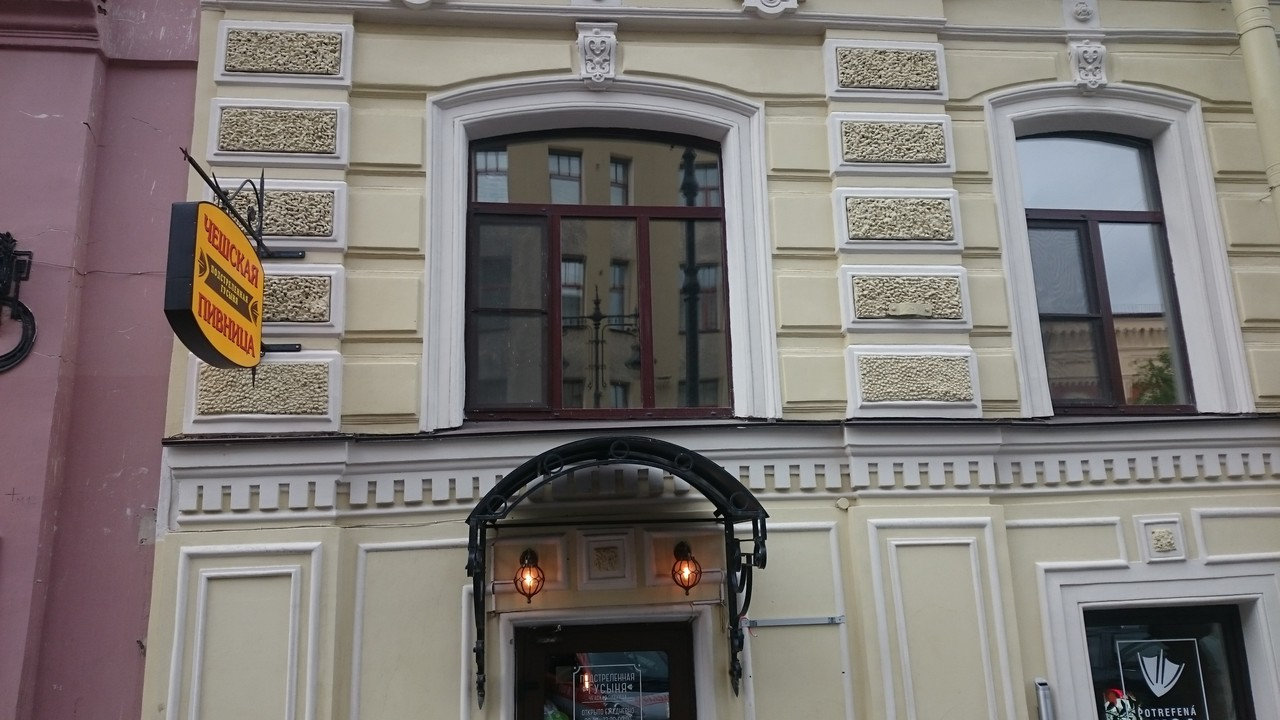cantilever: (162, 146, 303, 389)
window: (461, 127, 727, 426), (1012, 117, 1200, 415)
